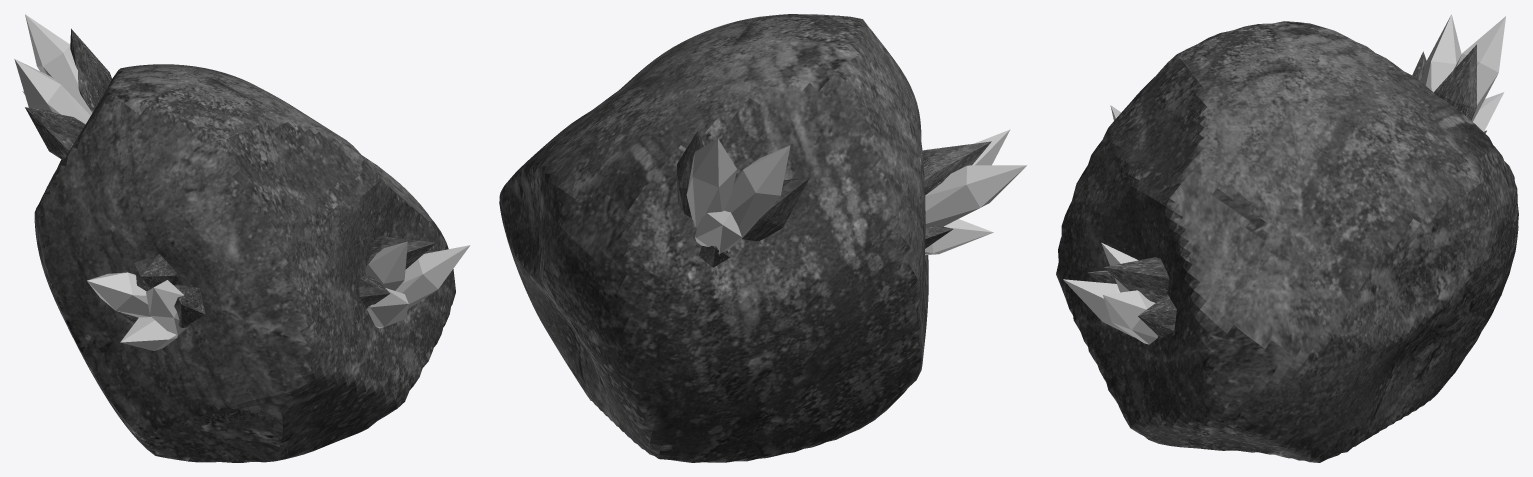
The model's file is Iron Rock.fbx.
3 renders of one model, left to right at view 1: azimuth 30°, elevation 25°; view 2: azimuth 150°, elevation 25°; view 3: azimuth 270°, elevation 25°, orthographic. The views are drawn at different scales.
Visible parts, largest first — view 1: Cube, Icosphere, Icosphere.005, Icosphere.001, Icosphere.006, Icosphere.009, Icosphere.010, Icosphere.003, Icosphere.007, Icosphere.008, Icosphere.012, Icosphere.004 (+3 smaller); view 2: Cube, Icosphere.006, Icosphere.001, Icosphere, Icosphere.012, Icosphere.010, Icosphere.002, Icosphere.008, Icosphere.009, Icosphere.007; view 3: Cube, Icosphere.015, Icosphere, Icosphere.005, Icosphere.009, Icosphere.001, Icosphere.004, Icosphere.016, Icosphere.002, Icosphere.003.
Part boxes in pixels (x1,y1,x2,y2): Cube: (34,64,455,462); Icosphere: (25,14,91,115); Icosphere.005: (395,245,470,309); Icosphere.001: (14,59,90,124); Icosphere.006: (87,272,150,317); Icosphere.009: (70,28,111,113); Icosphere.010: (25,107,85,160); Icosphere.003: (365,241,407,290); Icosphere.007: (146,280,188,335); Icosphere.008: (120,317,177,351); Icosphere.012: (134,254,178,291); Icosphere.004: (367,288,408,328); Cube: (499,14,928,462); Icosphere.006: (925,165,1026,227); Icosphere.001: (724,145,790,240); Icosphere: (686,138,737,226); Icosphere.012: (922,141,991,195); Icosphere.010: (742,177,809,241); Icosphere.002: (694,210,741,254); Icosphere.008: (925,219,993,255); Icosphere.009: (677,131,706,218); Icosphere.007: (972,129,1010,165); Cube: (1056,21,1518,462); Icosphere.015: (1103,257,1169,302); Icosphere: (1453,16,1505,121); Icosphere.005: (1103,290,1157,344); Icosphere.009: (1434,44,1476,120); Icosphere.001: (1422,14,1461,92); Icosphere.004: (1063,279,1133,337); Icosphere.016: (1138,294,1176,338); Icosphere.002: (1473,92,1504,131); Icosphere.003: (1101,242,1138,292).
Size of the model in its own units: 328 by 277 by 321.
